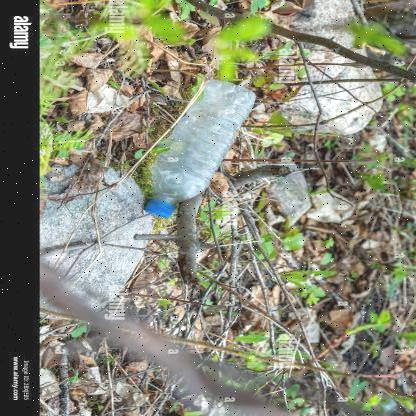Plastic Bottle: (143, 80, 254, 218)
